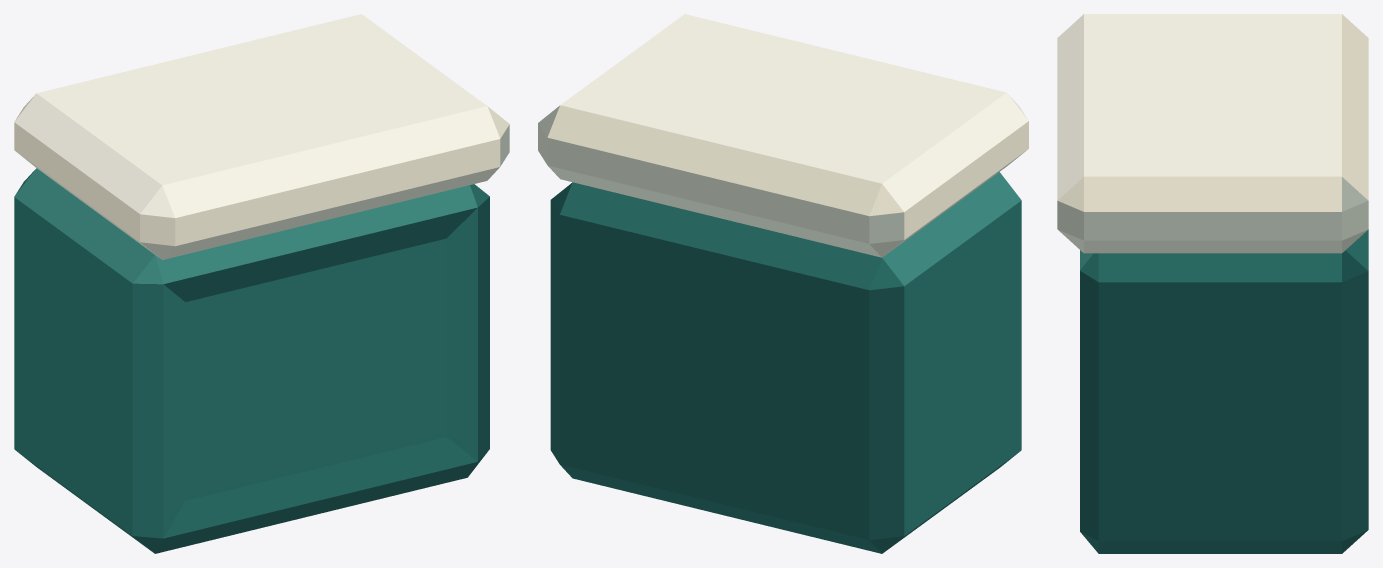
The model's file is Terrain_TopRun1R.gltf.
3 renders of one model, left to right at view 1: azimuth 30°, elevation 25°; view 2: azimuth 150°, elevation 25°; view 3: azimuth 270°, elevation 25°, orthographic. The views are drawn at different scales.
Visible parts, largest first — view 1: Terrain_TopRun1R_baked; view 2: Terrain_TopRun1R_baked; view 3: Terrain_TopRun1R_baked.
Part boxes in pixels (<box>): Terrain_TopRun1R_baked: <box>14,14,509,553</box>; Terrain_TopRun1R_baked: <box>538,14,1028,553</box>; Terrain_TopRun1R_baked: <box>1057,14,1368,553</box>.
Bounding box in the file's own units: 1.04 × 1 × 0.735.
